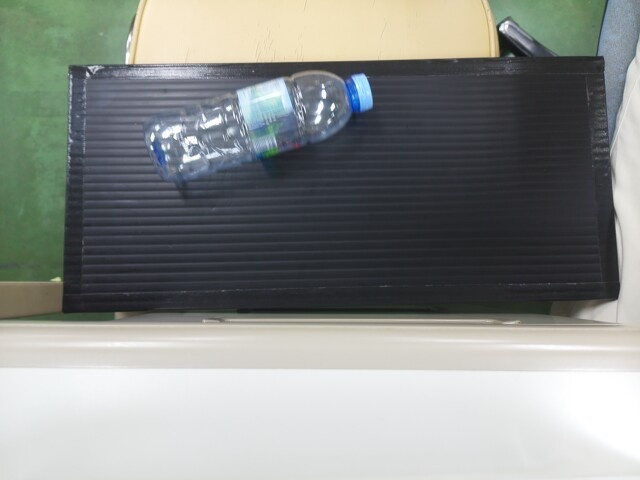plastic_bottle: (142, 67, 377, 181)
